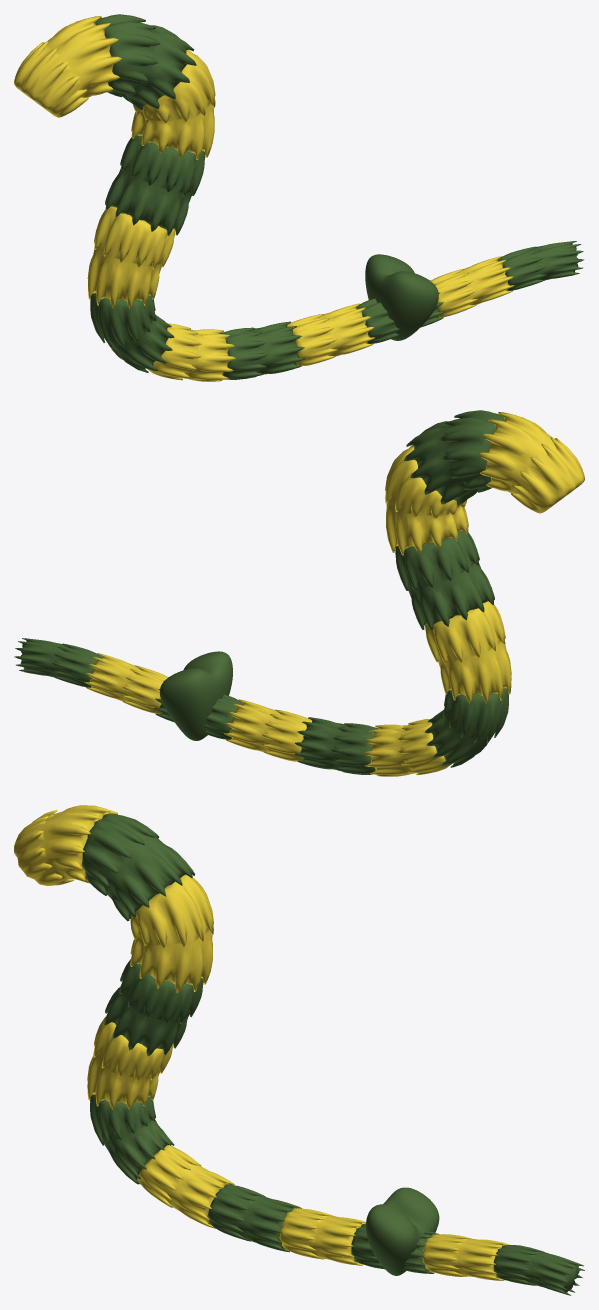
File: Player.fbx
3 renders of one model, top to bottom at view 1: azimuth 30°, elevation 25°; view 2: azimuth 150°, elevation 25°; view 3: azimuth 330°, elevation 25°, orthographic.
Parts seen in each view (by area): view 1: Cylinder; view 2: Cylinder; view 3: Cylinder.
Boxes of the visible parts, box(x1,y1,x2,y2) form: Cylinder: box(14, 14, 584, 381); Cylinder: box(14, 410, 584, 776); Cylinder: box(14, 805, 584, 1295).
Size of the model in its own units: 450 by 302 by 61.8.
